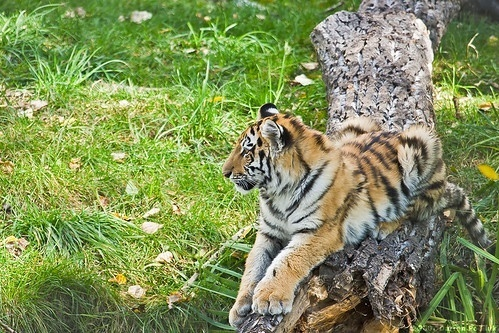tigre: (221, 103, 495, 329)
